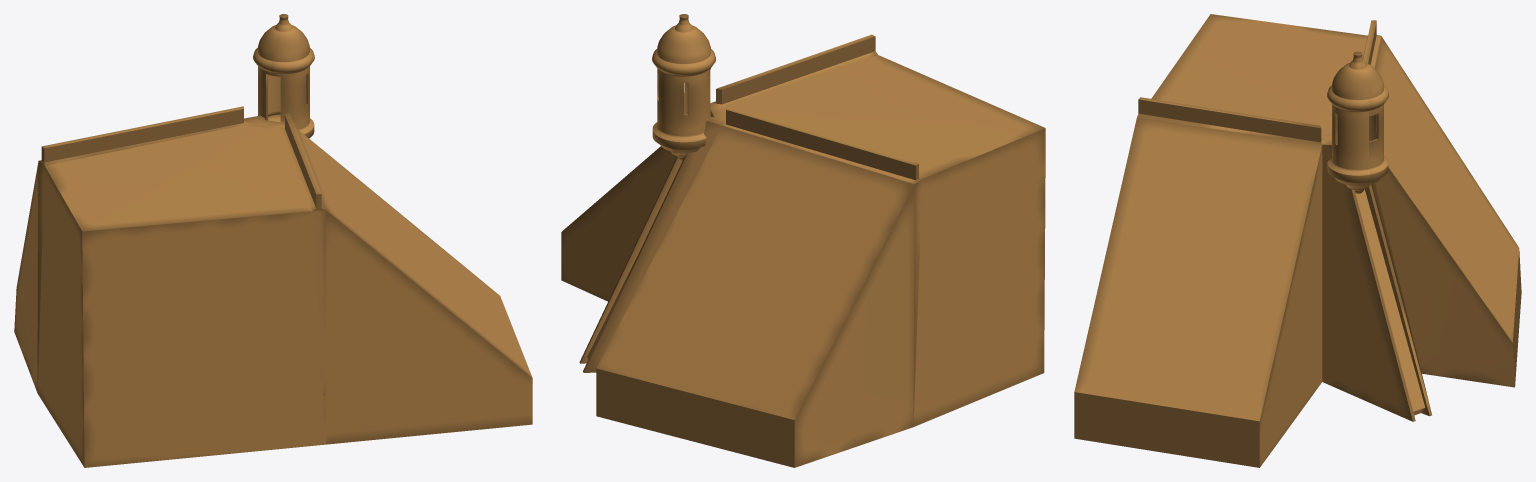
Rendered from garita.glb.
3 views of the same model, side by side, from view 1: azimuth 30°, elevation 25°; view 2: azimuth 150°, elevation 25°; view 3: azimuth 270°, elevation 25° (orthographic). The views are drawn at different scales.
Visible parts, largest first — view 1: polySurface2.001, pCylinder1.002; view 2: polySurface2.001, pCylinder1.002; view 3: polySurface2.001, pCylinder1.002.
Part boxes in pixels (x1=…): polySurface2.001: x1=14, y1=106, x2=532, y2=467; pCylinder1.002: x1=253, y1=14, x2=314, y2=138; polySurface2.001: x1=561, y1=34, x2=1045, y2=467; pCylinder1.002: x1=652, y1=14, x2=715, y2=160; polySurface2.001: x1=1074, y1=14, x2=1521, y2=467; pCylinder1.002: x1=1327, y1=51, x2=1388, y2=193.
Size of the model in its own units: 5 by 3.59 by 4.37.
1 material, 1 textured.
